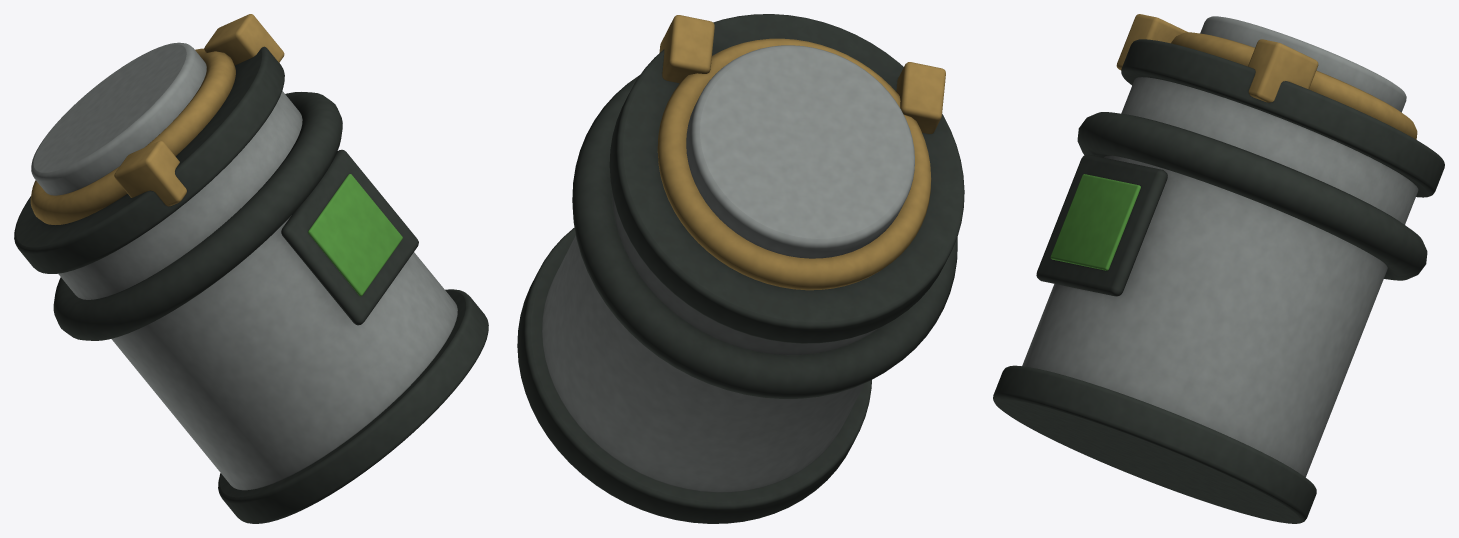
The picture shows the model from 3 angles, left to right: view 1: azimuth 30°, elevation 25°; view 2: azimuth 150°, elevation 25°; view 3: azimuth 270°, elevation 25°; orthographic projection. The views are drawn at different scales.
Parts seen in each view (by area): view 1: Pressure shell; view 2: Pressure shell; view 3: Pressure shell.
Part boxes in pixels (x1=…): Pressure shell: x1=14, y1=14, x2=488, y2=523; Pressure shell: x1=517, y1=14, x2=964, y2=523; Pressure shell: x1=993, y1=14, x2=1444, y2=523.
Bounding box in the file's own units: 1.2 × 1.33 × 1.13.
1 material, 1 textured.
